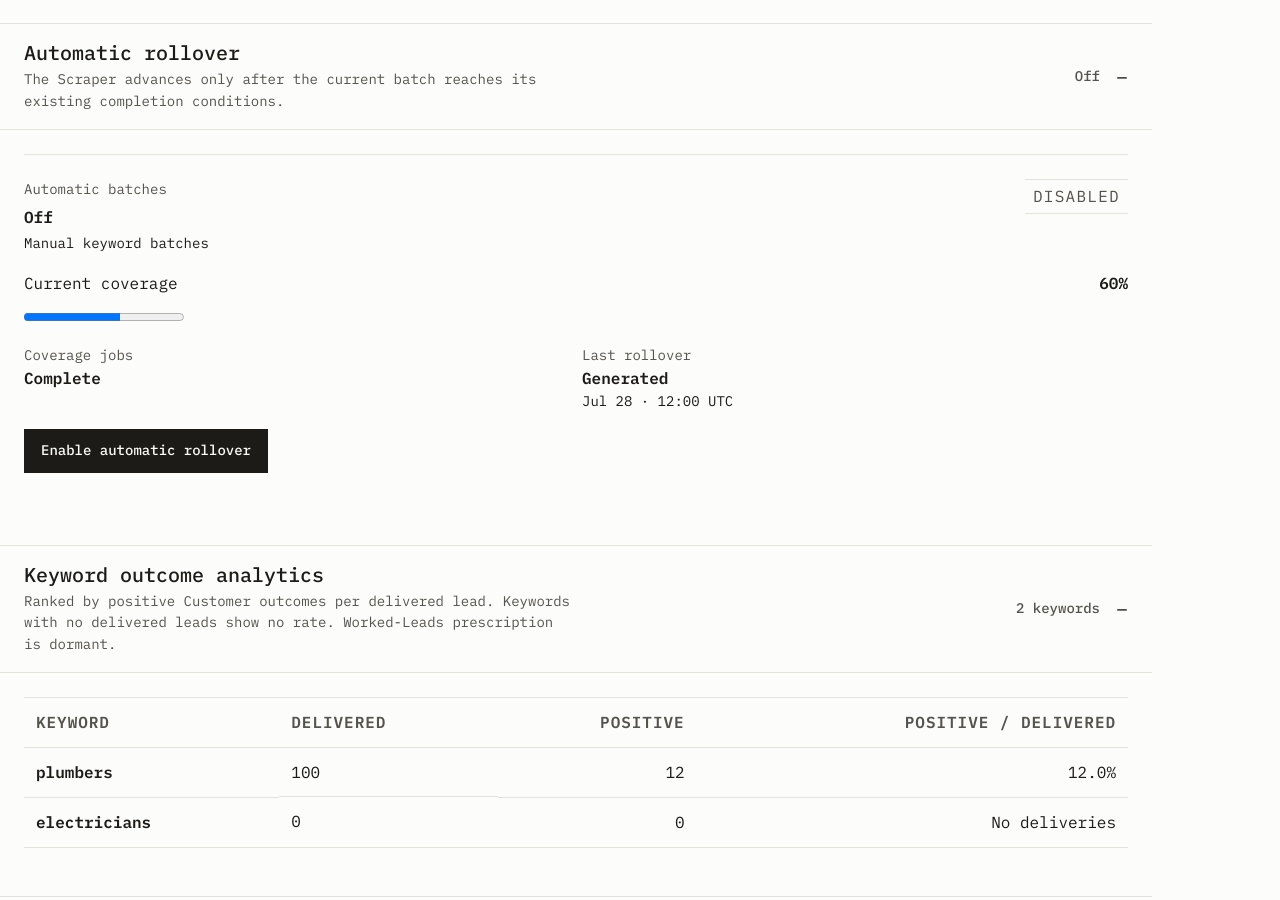
Scenario: keyword parity › retains rollover controls and updates their measured state
The image size is (1280, 900).
(page scrolled)
What coordinates should you click on to do the following:
click the button "Enable automatic rollover"
I would click on:
 (146, 451)
Its box is [24,429,268,473].
(page scrolled)
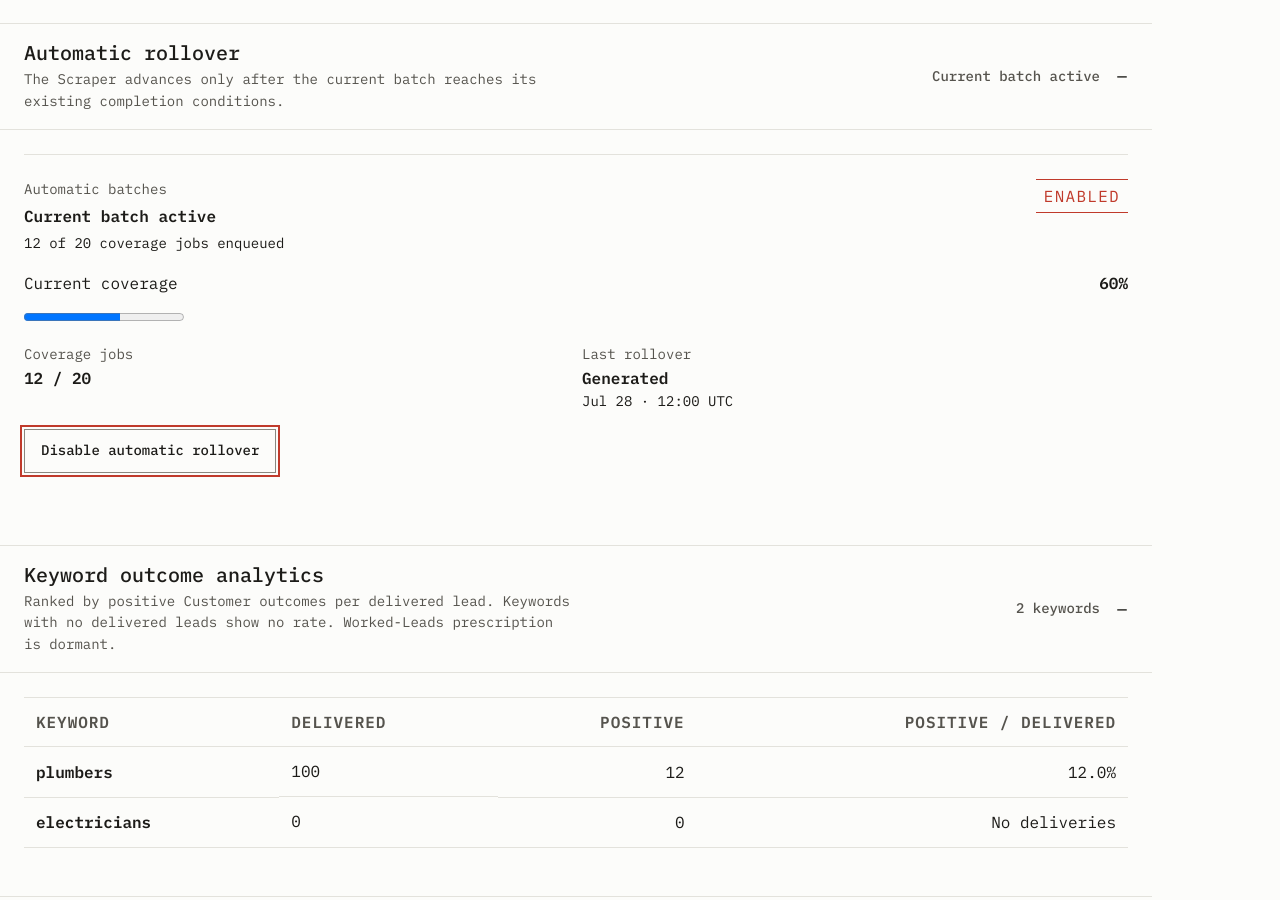
Now the text "12 / 20" is shown, box [24,368,91,388]
Now the button "Disable automatic rollover" is shown, box [24,429,276,473]
